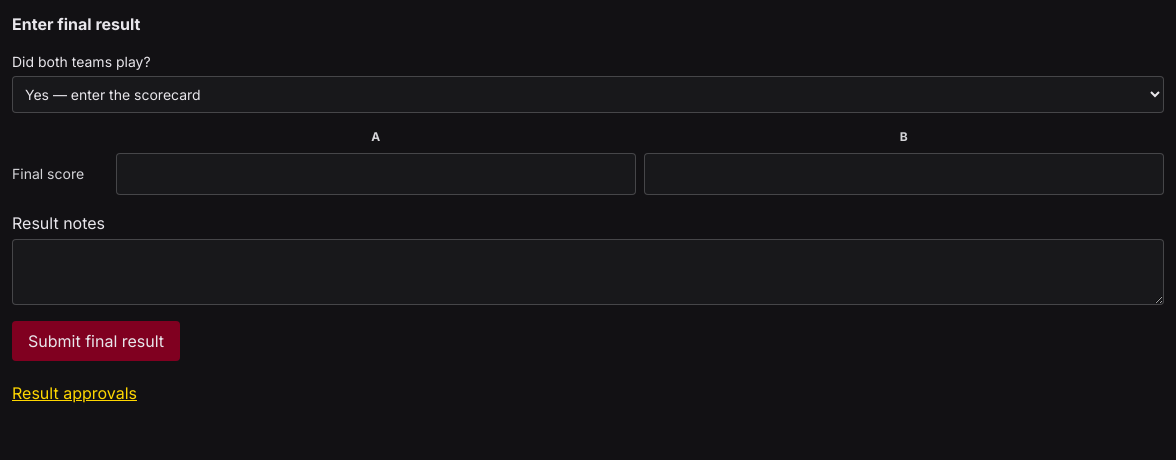
it: submits a final score with no live-scoring controls
This screenshot has width=1176, height=460.
Type "3" into the number field named "Final score team A".
click(376, 174); type("3")  # box [116,153,636,195]
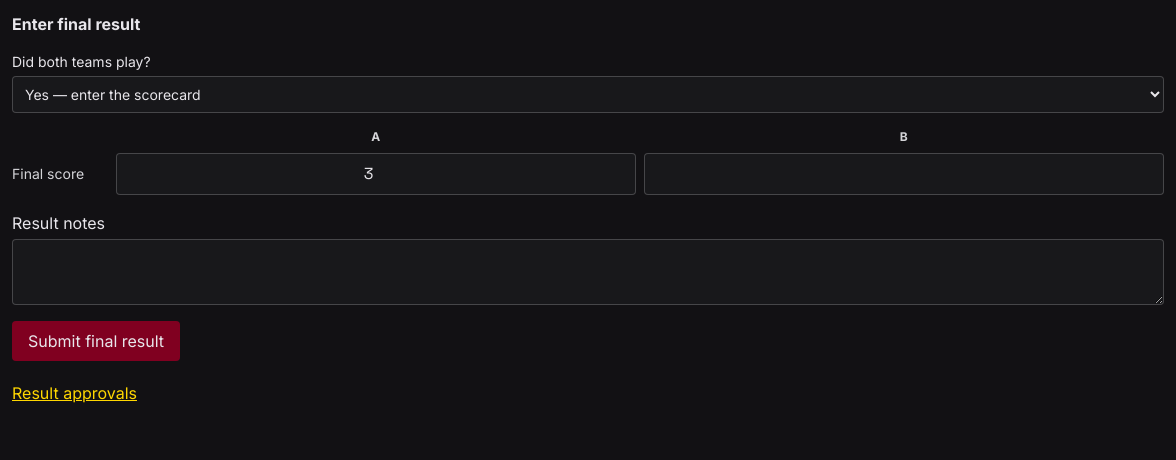
Type "2" into the number field named "Final score team B".
click(904, 174); type("2")  # box [644,153,1164,195]
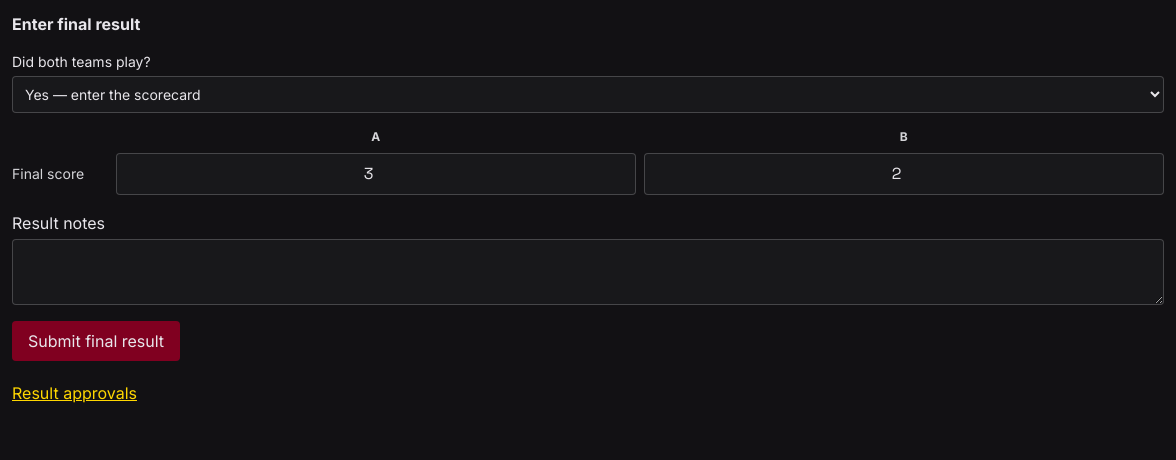
Submit the form "Enter final result"
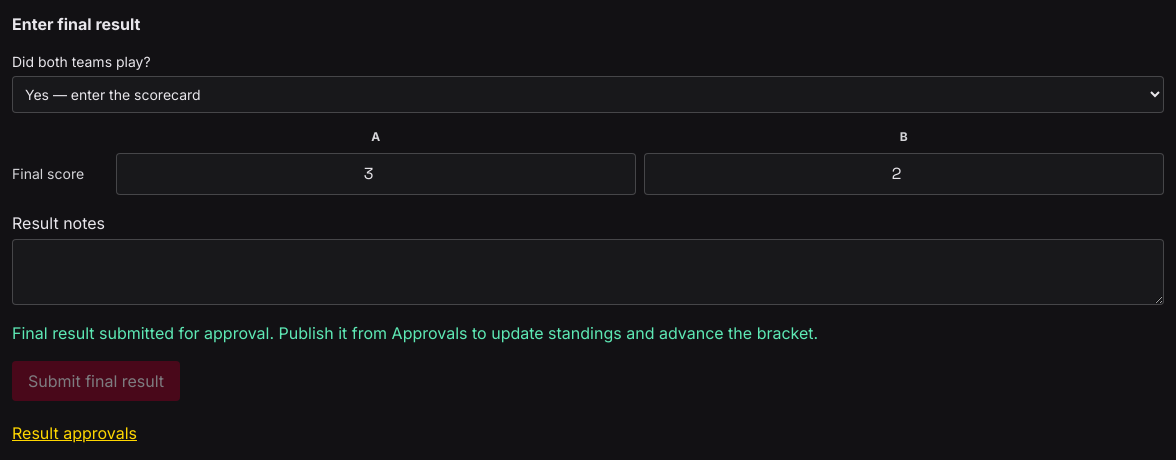
Expected: the text "Final result submitted for approval" is shown, [12,323,818,343]
